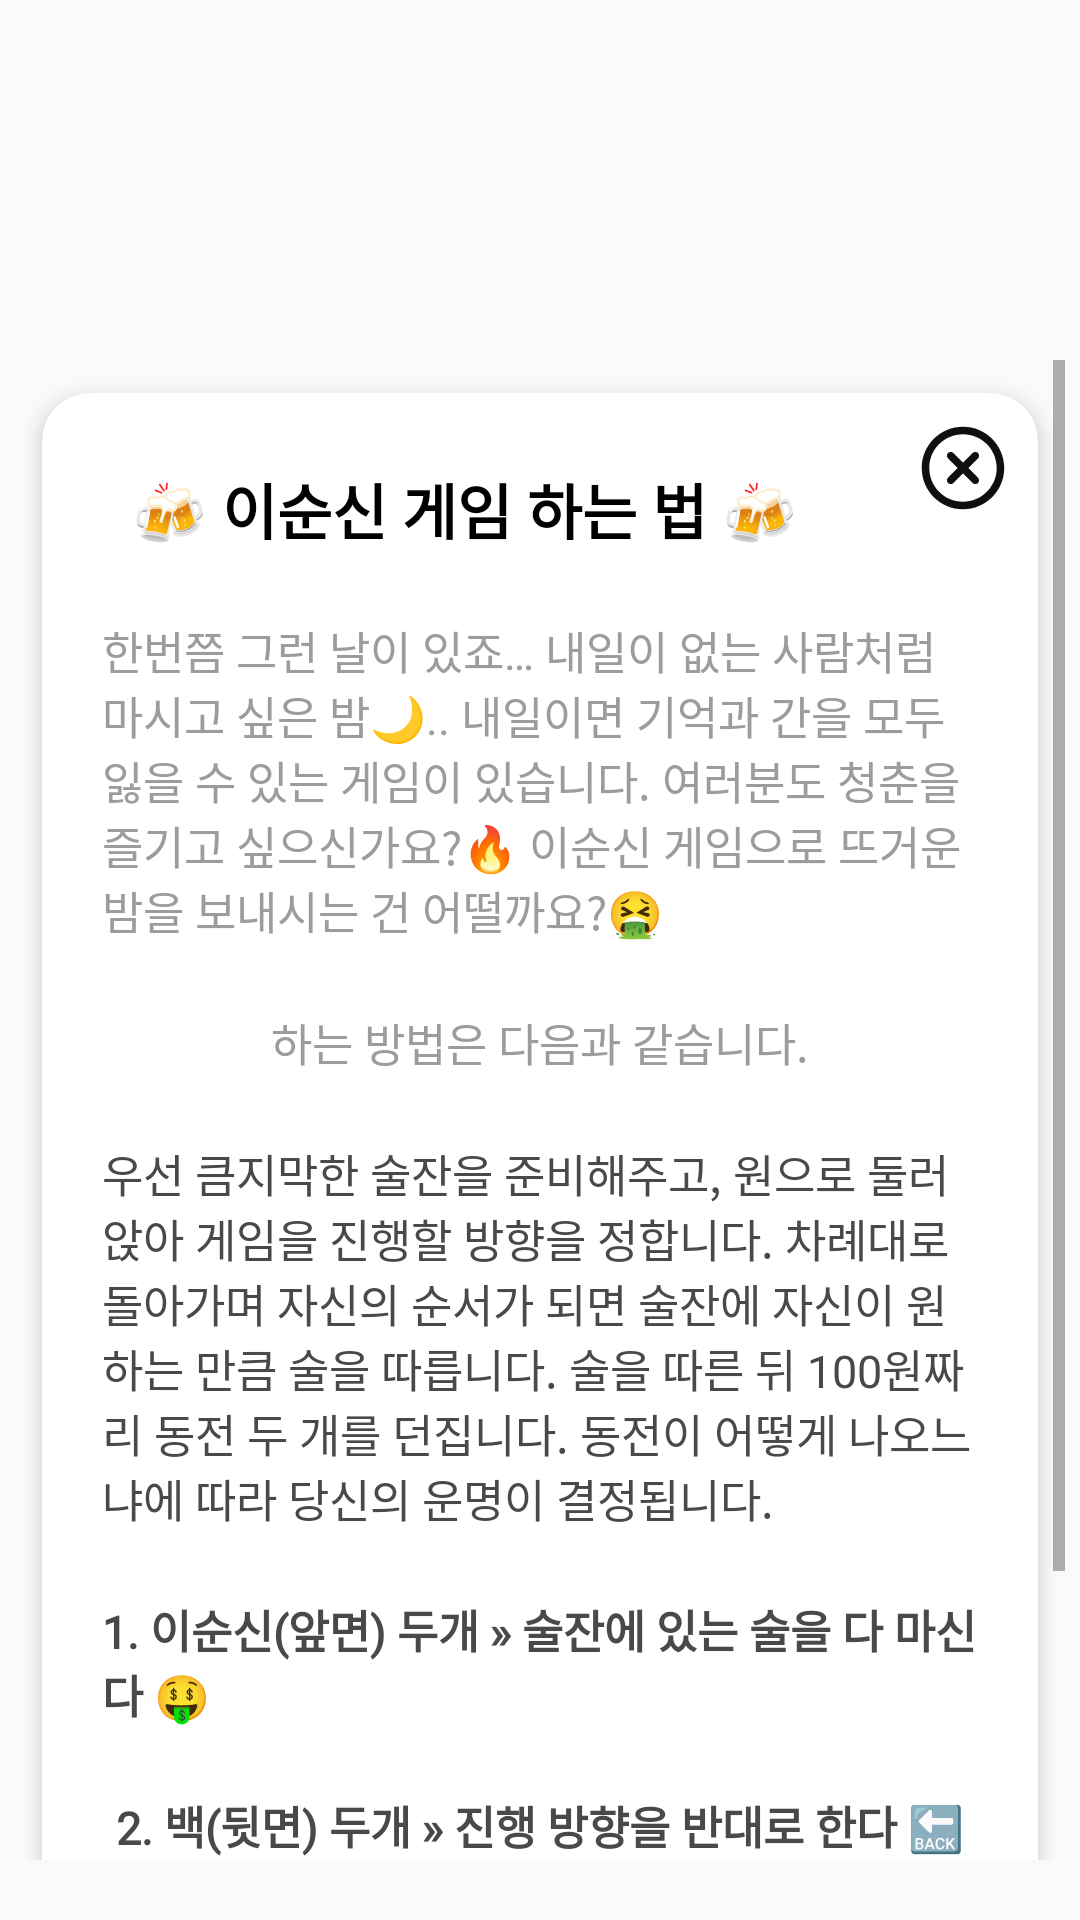

Icon click points for this 1080px×1920px phone screenshot, format [x,y]:
close button: [963,468]
